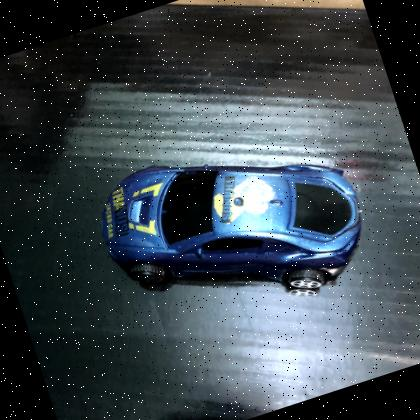Car: (100, 164, 363, 292)
